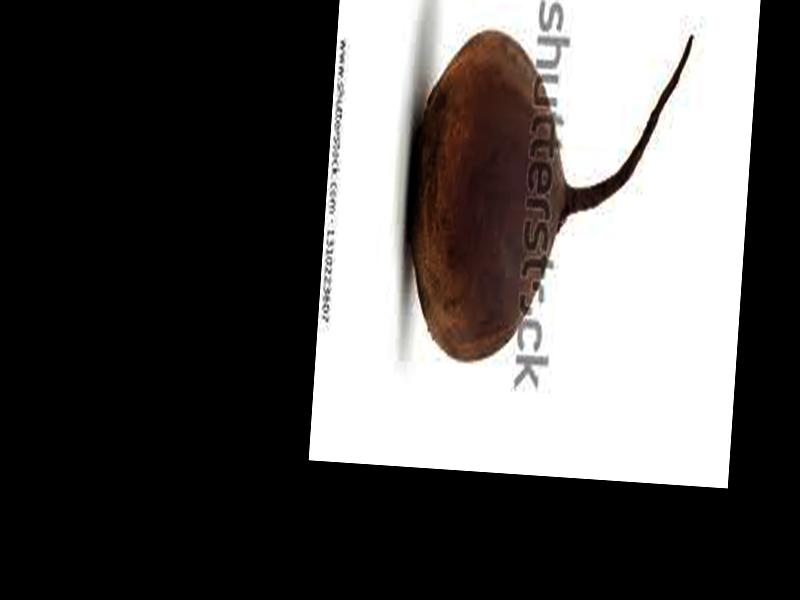Beet: (397, 17, 693, 379)
